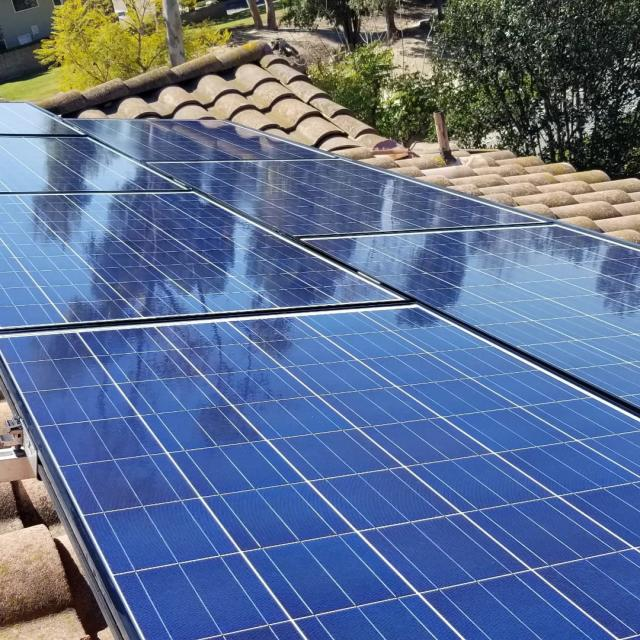clean-solar-panel: (0, 104, 640, 640)
